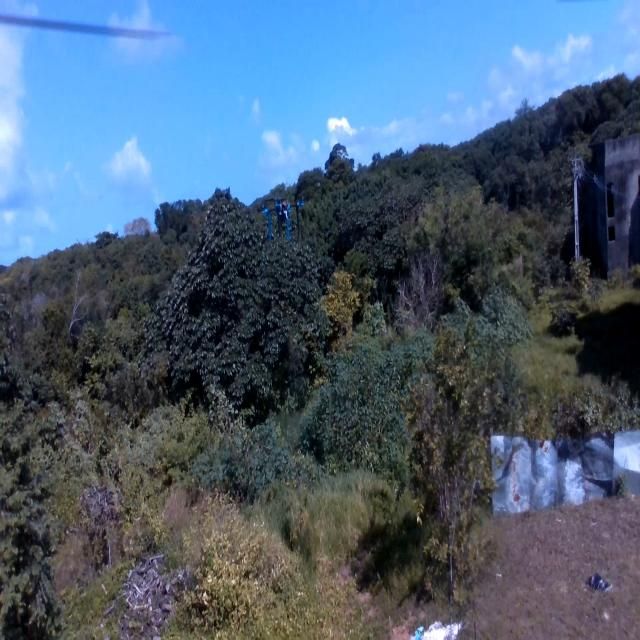-uav-: (260, 197, 306, 240)
